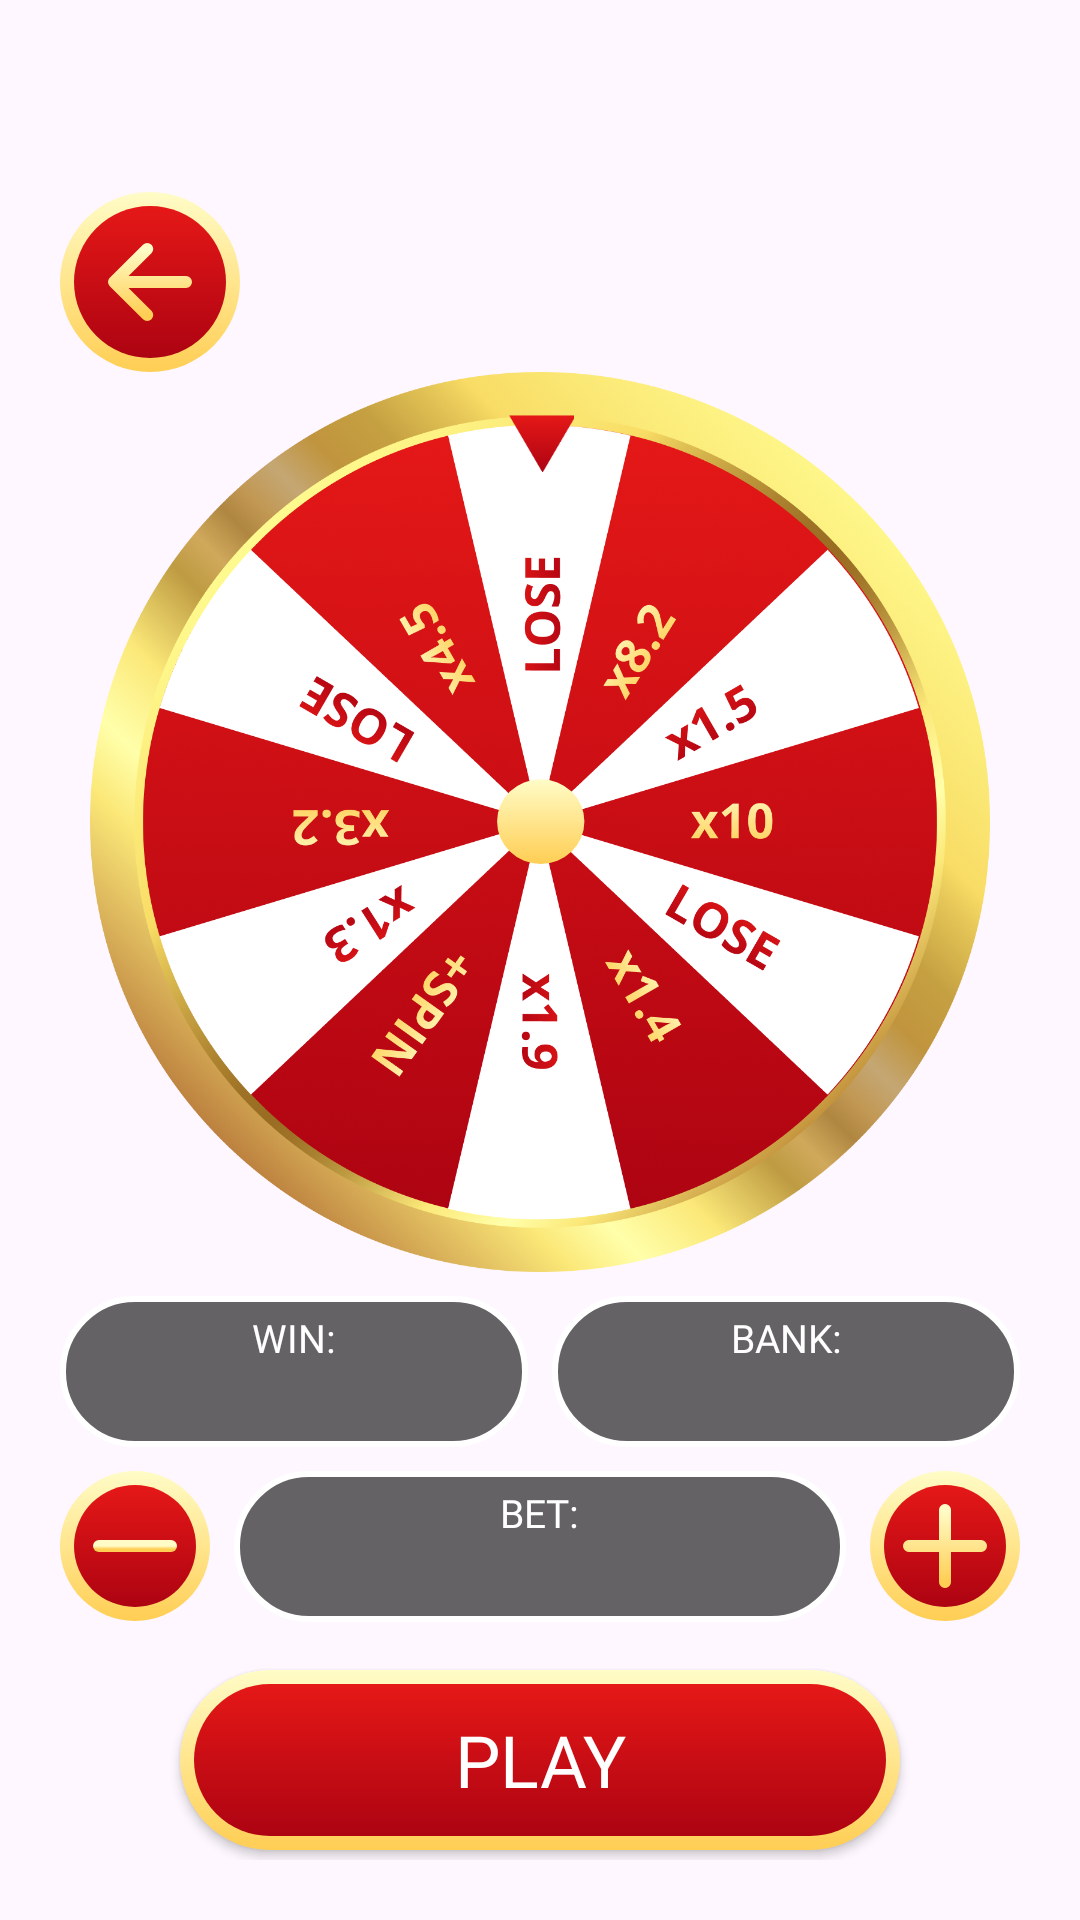

Named icons in this screenshot (1080w x 1920h) and their centers, (x,y):
back: (150,282)
minus: (135,1546)
plus: (945,1546)
win arrow: (540,440)
